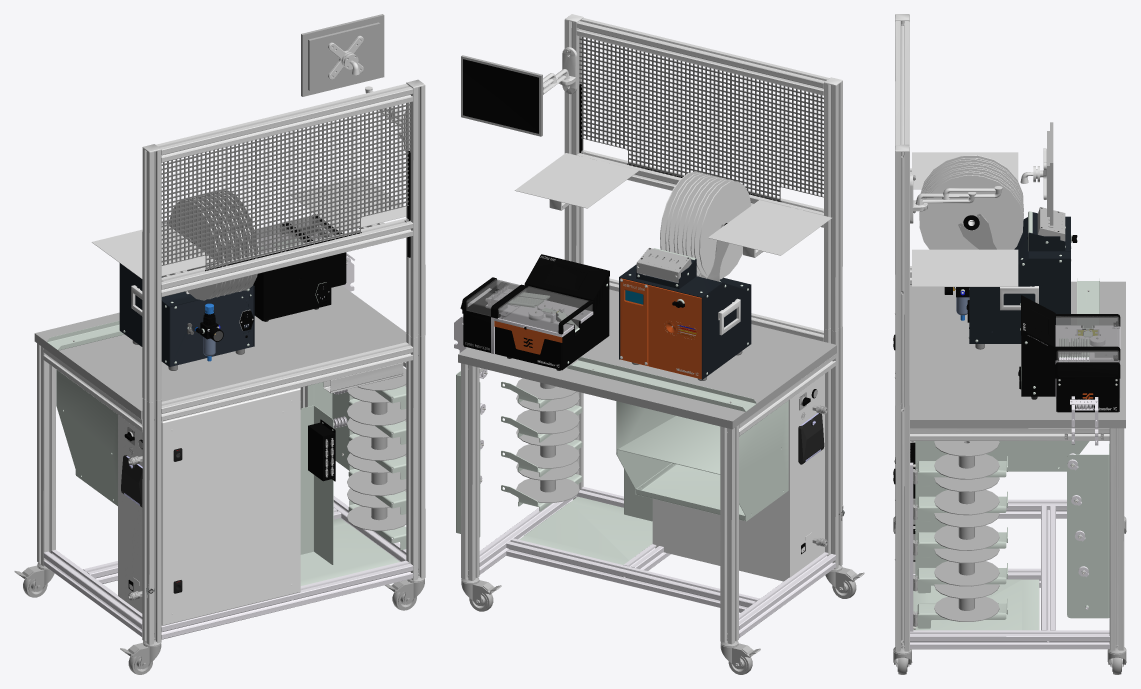
The model's file is Weidmuller_Tentativo3_OK.fbx.
The picture shows the model from 3 angles, left to right: view 1: azimuth 30°, elevation 25°; view 2: azimuth 150°, elevation 25°; view 3: azimuth 270°, elevation 25°; orthographic projection. The views are drawn at different scales.
Parts seen in each view (by area): view 1: Volumenkorper1_172, Volumenkorper1_69, Volumenkorper1_220, Cube.001, Volumenkorper1_8, Volumenkorper1_372, Volumenkorper1_369, Volumenkorper1_147, Volumenkorper1_576, Volumenkorper1_225, Volumenkorper1_375, Cube (+10 smaller); view 2: Volumenkorper1_172, Volumenkorper1_220, Volumenkorper1_8, Volumenkorper1_147, Cube.001, Cube, Volumenkorper1_372, Volumenkorper1_576, Volumenkorper1_380, Volumenkorper1_369, Volumenkorper1_225, Volumenkorper1_613 (+10 smaller); view 3: Cube.001, Volumenkorper1_172, Volumenkorper1_369, Volumenkorper1_8, Volumenkorper1_576, Volumenkorper1_372, Volumenkorper1_380, Volumenkorper1_318, Volumenkorper1_268, Cube.003, Volumenkorper1_613, Volumenkorper1_147 (+11 smaller).
Part boxes in pixels (bbox=[...]): Volumenkorper1_172: bbox=[37, 79, 425, 644]; Volumenkorper1_69: bbox=[161, 388, 300, 625]; Volumenkorper1_220: bbox=[161, 102, 410, 270]; Cube.001: bbox=[34, 285, 406, 418]; Volumenkorper1_8: bbox=[43, 496, 413, 639]; Volumenkorper1_372: bbox=[119, 238, 254, 370]; Volumenkorper1_369: bbox=[347, 367, 406, 530]; Volumenkorper1_147: bbox=[56, 369, 117, 505]; Volumenkorper1_576: bbox=[253, 214, 346, 321]; Volumenkorper1_225: bbox=[301, 14, 384, 96]; Volumenkorper1_375: bbox=[300, 405, 333, 564]; Cube: bbox=[118, 415, 142, 613]; Volumenkorper1_172: bbox=[461, 14, 842, 644]; Volumenkorper1_220: bbox=[579, 36, 823, 201]; Volumenkorper1_8: bbox=[479, 486, 835, 637]; Volumenkorper1_147: bbox=[616, 400, 788, 521]; Cube.001: bbox=[458, 289, 836, 429]; Cube: bbox=[652, 374, 824, 581]; Volumenkorper1_372: bbox=[619, 224, 751, 380]; Volumenkorper1_576: bbox=[460, 254, 609, 370]; Volumenkorper1_380: bbox=[660, 171, 751, 279]; Volumenkorper1_369: bbox=[516, 378, 579, 502]; Volumenkorper1_225: bbox=[461, 55, 542, 136]; Volumenkorper1_613: bbox=[465, 256, 588, 367]; Cube.001: bbox=[910, 281, 1125, 428]; Volumenkorper1_172: bbox=[895, 14, 1124, 651]; Volumenkorper1_369: bbox=[934, 441, 999, 621]; Volumenkorper1_8: bbox=[910, 499, 1109, 649]; Volumenkorper1_576: bbox=[1018, 295, 1120, 412]; Volumenkorper1_372: bbox=[944, 211, 1071, 349]; Volumenkorper1_380: bbox=[919, 155, 1023, 249]; Volumenkorper1_318: bbox=[1067, 443, 1109, 618]; Volumenkorper1_268: bbox=[910, 456, 1007, 631]; Cube.003: bbox=[912, 249, 1018, 286]; Volumenkorper1_613: bbox=[1023, 316, 1119, 410]; Volumenkorper1_147: bbox=[986, 441, 1089, 471].
Bounding box in the file's own units: 1.2 × 1.81 × 0.713.
